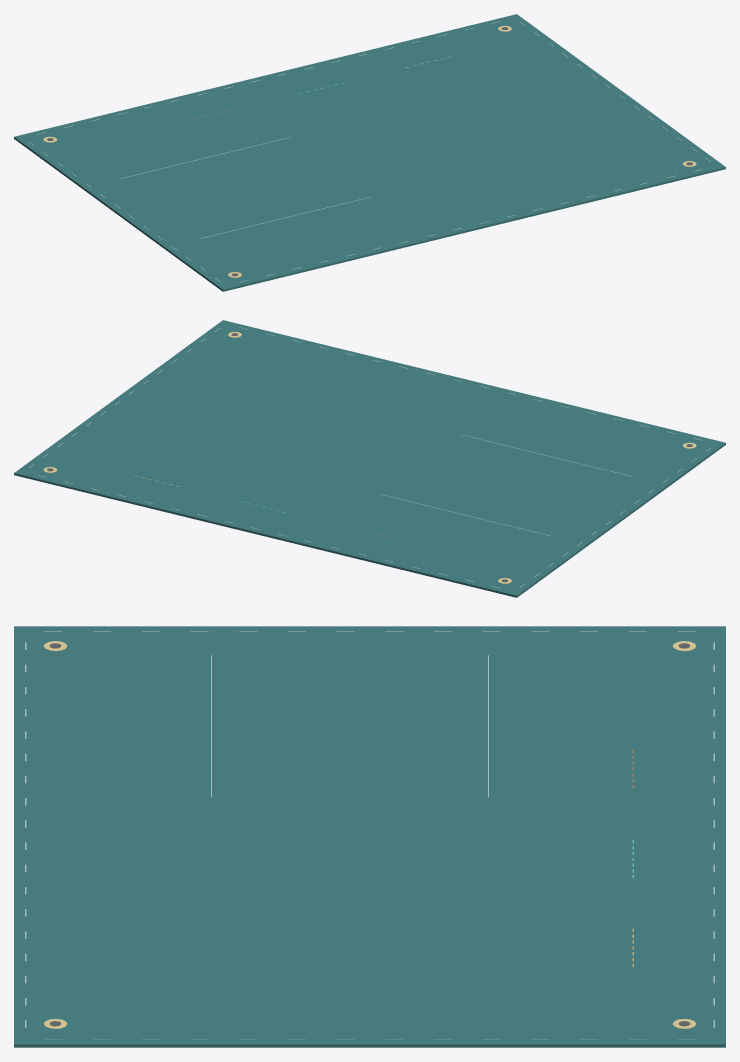
The model's file is 249_L119_PCB_Main.glb.
3 renders of one model, top to bottom at view 1: azimuth 30°, elevation 25°; view 2: azimuth 150°, elevation 25°; view 3: azimuth 270°, elevation 25°, orthographic. The views are drawn at different scales.
Parts seen in each view (by area): view 1: 0000__PSMAT__pcb_green; view 2: 0000__PSMAT__pcb_green; view 3: 0000__PSMAT__pcb_green.
Boxes of the visible parts, box(x1,y1,x2,y2) form: 0000__PSMAT__pcb_green: box(14, 14, 725, 291); 0000__PSMAT__pcb_green: box(14, 320, 725, 597); 0000__PSMAT__pcb_green: box(14, 626, 725, 1047).
Bounding box in the file's own units: 0.5 × 0.0023 × 0.36.
